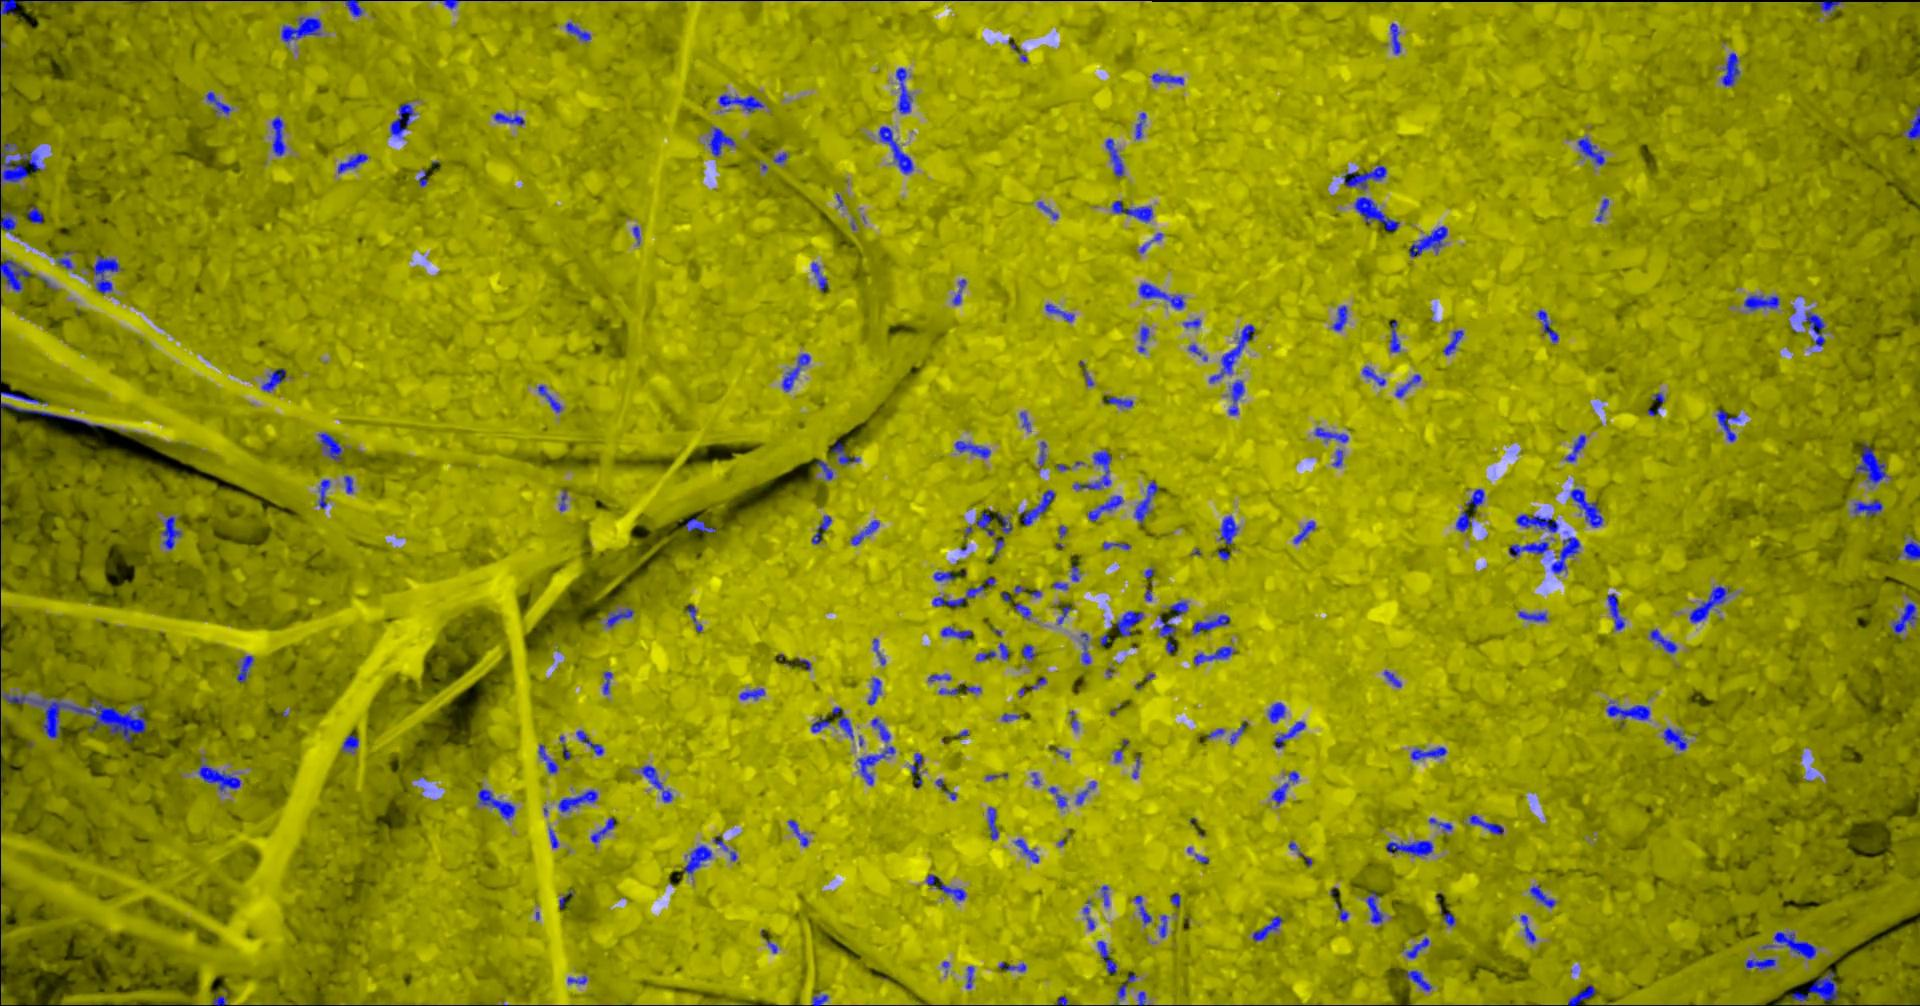ant: (1210, 324, 1256, 382), (1, 401, 105, 427), (880, 126, 916, 173), (1, 142, 42, 183), (1355, 196, 1401, 230), (1793, 970, 1839, 1005), (1763, 931, 1817, 959), (1074, 450, 1112, 489), (1161, 601, 1189, 653), (858, 746, 897, 784), (1857, 441, 1891, 483), (1691, 586, 1730, 622), (1571, 488, 1604, 527), (479, 788, 517, 821), (1410, 225, 1449, 257), (1140, 282, 1186, 309), (1022, 489, 1057, 525), (199, 763, 243, 791), (643, 765, 674, 801), (1552, 536, 1582, 573), (935, 584, 985, 606), (282, 17, 323, 43), (927, 874, 968, 901), (783, 353, 811, 391), (1, 258, 33, 291), (1345, 165, 1388, 189), (1135, 480, 1159, 523), (94, 255, 121, 293), (1112, 199, 1154, 222), (1090, 495, 1125, 521), (1893, 602, 1920, 635), (1112, 610, 1145, 636), (392, 102, 417, 137), (560, 789, 599, 810), (684, 845, 712, 874), (710, 126, 737, 156), (1276, 721, 1307, 748), (1517, 513, 1559, 532), (720, 94, 764, 112), (1803, 311, 1826, 345), (1578, 137, 1606, 165), (1387, 840, 1434, 856), (1192, 614, 1230, 634), (1608, 701, 1651, 719), (897, 67, 913, 113), (1195, 647, 1237, 664), (852, 520, 881, 545), (1255, 916, 1284, 941), (1718, 409, 1741, 441), (1538, 309, 1559, 342), (320, 432, 344, 461), (1470, 814, 1505, 835), (833, 706, 855, 738), (1107, 138, 1125, 177), (1651, 627, 1677, 653), (538, 384, 563, 412), (833, 439, 861, 464), (577, 730, 604, 754), (163, 516, 183, 549), (1608, 593, 1625, 630), (1396, 373, 1422, 398), (956, 439, 992, 457), (339, 152, 370, 173), (1510, 541, 1550, 556), (592, 817, 616, 842), (1745, 293, 1782, 310), (1098, 940, 1117, 972), (1566, 434, 1587, 462), (1723, 52, 1741, 85), (1368, 890, 1385, 923), (1016, 838, 1040, 862), (789, 819, 810, 846), (813, 514, 833, 542), (1570, 984, 1597, 1005), (540, 744, 559, 774), (263, 368, 287, 391), (1, 391, 50, 403), (273, 116, 287, 155), (1531, 885, 1557, 907), (1854, 499, 1884, 517), (1406, 970, 1432, 991), (1316, 427, 1350, 442), (1665, 727, 1688, 749), (208, 91, 232, 113), (1077, 780, 1098, 804), (813, 262, 830, 291), (1046, 304, 1076, 321), (1222, 514, 1239, 544), (1445, 329, 1465, 354), (1117, 973, 1138, 998), (1230, 380, 1244, 415), (607, 608, 635, 626), (1412, 746, 1448, 760), (910, 752, 924, 788), (1135, 895, 1153, 923), (686, 517, 717, 532), (872, 716, 891, 742), (237, 655, 255, 682), (1, 202, 17, 232), (1295, 520, 1316, 542), (1407, 937, 1430, 958), (568, 22, 592, 41), (1363, 366, 1387, 385), (977, 511, 996, 535), (1898, 539, 1920, 559), (1142, 232, 1164, 251), (1467, 488, 1486, 511), (1521, 915, 1537, 942), (1648, 392, 1666, 415), (942, 626, 974, 639), (495, 112, 526, 124), (1333, 305, 1349, 330), (1457, 511, 1476, 531), (1272, 782, 1290, 804), (1050, 786, 1068, 808), (1909, 105, 1920, 138), (1230, 720, 1247, 743), (874, 638, 888, 664), (869, 677, 883, 704), (1390, 23, 1402, 55), (1153, 72, 1185, 84), (25, 205, 44, 224), (1039, 201, 1059, 218), (1390, 320, 1402, 351), (1269, 702, 1286, 721), (954, 279, 968, 304), (1430, 817, 1454, 831), (818, 459, 834, 479), (989, 807, 999, 840), (320, 479, 331, 508), (1084, 899, 1096, 929), (1747, 958, 1777, 969), (1441, 904, 1457, 926), (1082, 633, 1092, 664), (999, 511, 1013, 533), (811, 715, 830, 732), (1520, 611, 1549, 621), (347, 0, 364, 17), (1385, 669, 1402, 687), (344, 734, 361, 752), (1597, 198, 1610, 221), (1139, 326, 1150, 352), (740, 688, 766, 700), (1817, 0, 1841, 11), (1016, 602, 1032, 619), (1137, 112, 1147, 138), (1059, 605, 1073, 624), (1109, 396, 1134, 406), (1, 0, 18, 15), (58, 251, 74, 268), (999, 962, 1027, 970), (813, 991, 829, 1005), (935, 570, 956, 580), (1103, 541, 1131, 549), (1023, 644, 1037, 659), (977, 650, 997, 661), (550, 827, 560, 847), (604, 671, 613, 694), (1161, 915, 1170, 937), (1001, 641, 1011, 659), (930, 673, 952, 681), (1183, 318, 1203, 326), (569, 976, 588, 984), (968, 967, 975, 988), (1335, 448, 1343, 466), (345, 475, 354, 493), (1102, 885, 1110, 906), (215, 995, 229, 1005), (1139, 991, 1147, 1005)
